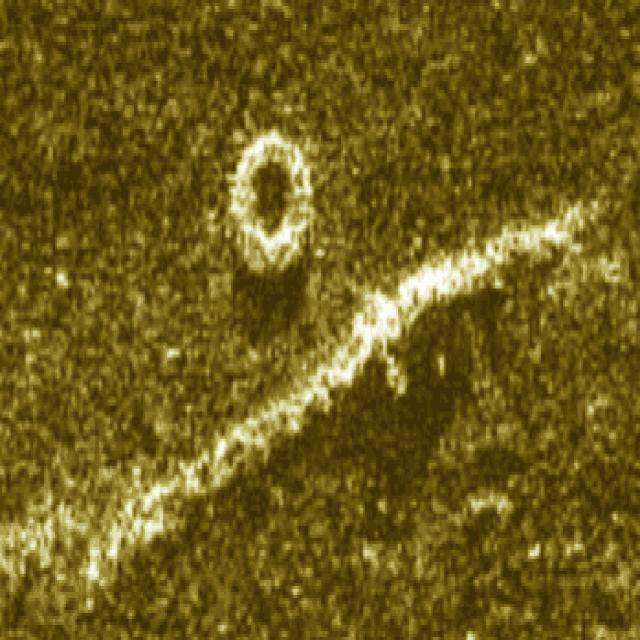other: (62, 189, 606, 580), (176, 105, 326, 298)
